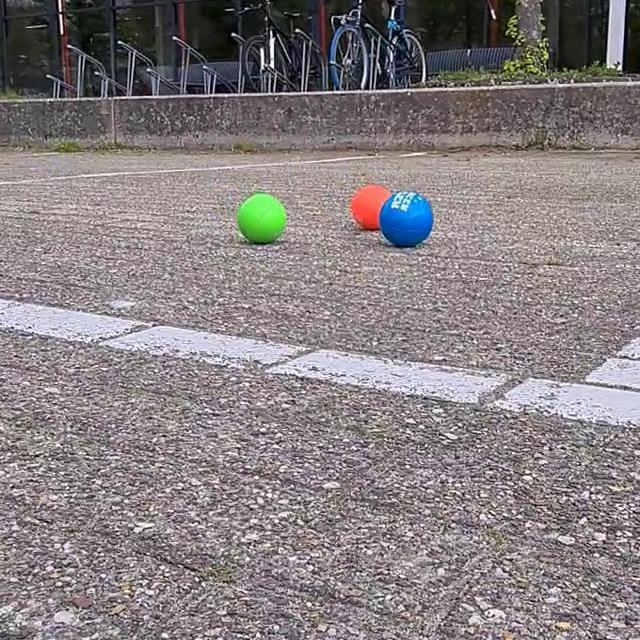ball: (379, 187, 436, 246), (238, 190, 292, 248), (350, 183, 392, 228)
